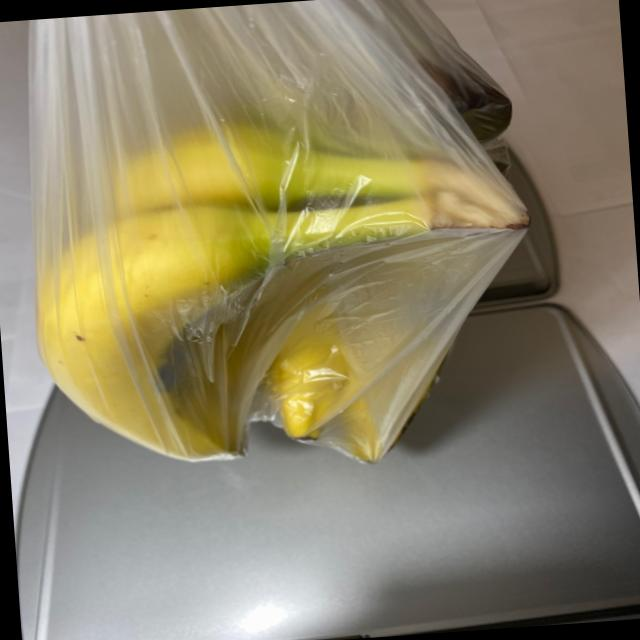banana: (18, 58, 551, 492)
